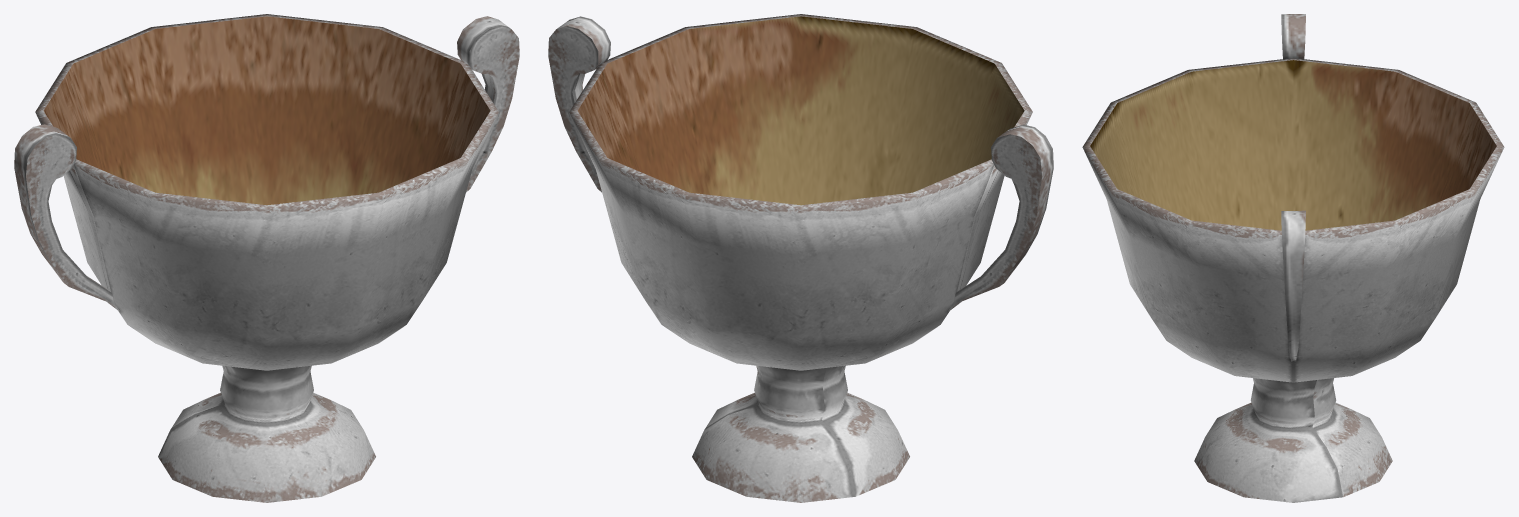
File: copaGenerica4.FBX
3 views of the same model, side by side, from view 1: azimuth 30°, elevation 25°; view 2: azimuth 150°, elevation 25°; view 3: azimuth 270°, elevation 25° (orthographic). The views are drawn at different scales.
Visible parts, largest first — view 1: copaGenerica4; view 2: copaGenerica4; view 3: copaGenerica4.
Boxes of the visible parts, left/top/right/bottom form: copaGenerica4: left=14, top=14, right=519, bottom=502; copaGenerica4: left=548, top=14, right=1053, bottom=502; copaGenerica4: left=1082, top=14, right=1504, bottom=502.
Bounding box in the file's own units: 104 × 76.38 × 84.4.
